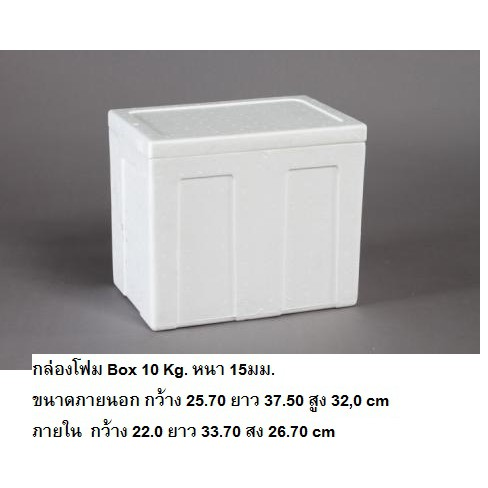Foam Box: (103, 91, 373, 333)
